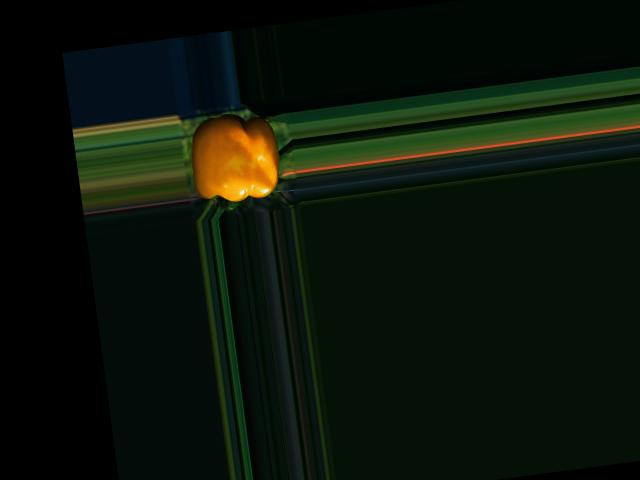bell_pepper: (180, 106, 292, 215)
